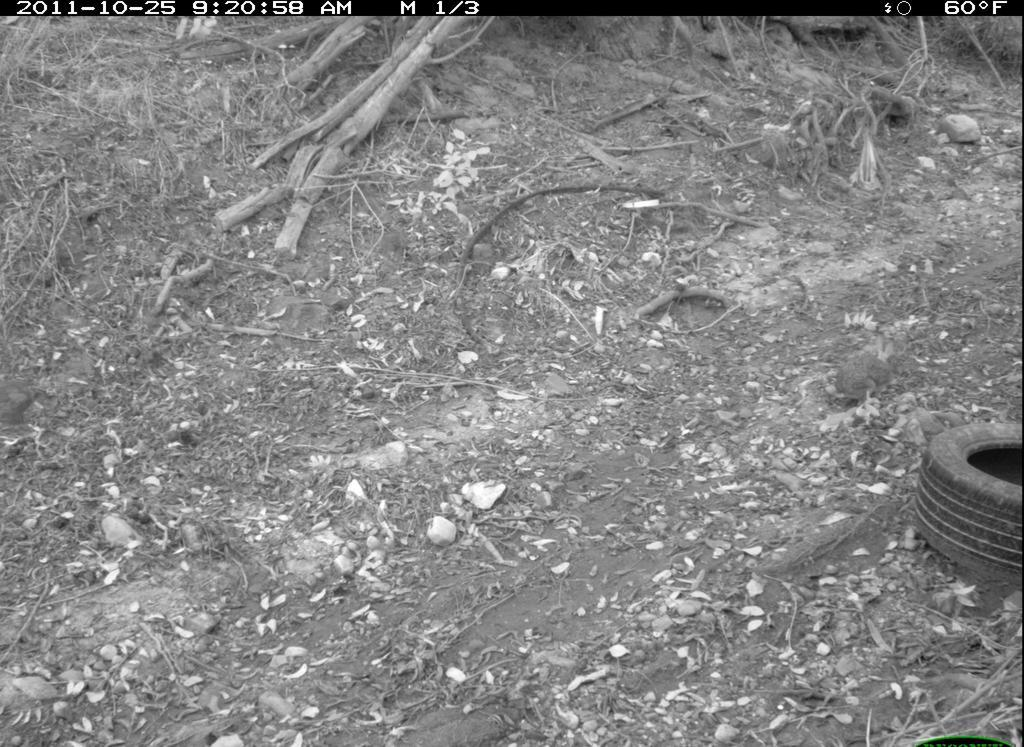rabbit: (829, 315, 911, 414)
